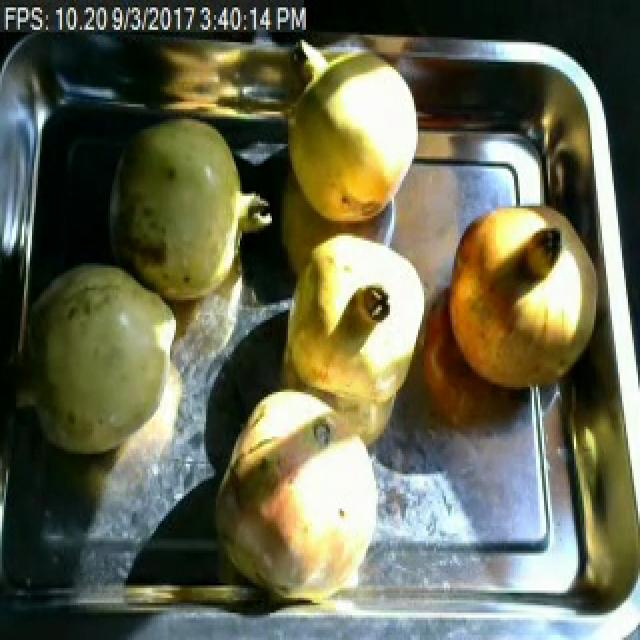fruit: (204, 370, 400, 620), (12, 256, 194, 472), (102, 109, 280, 318), (438, 196, 602, 404), (274, 228, 436, 419), (274, 39, 422, 236)
